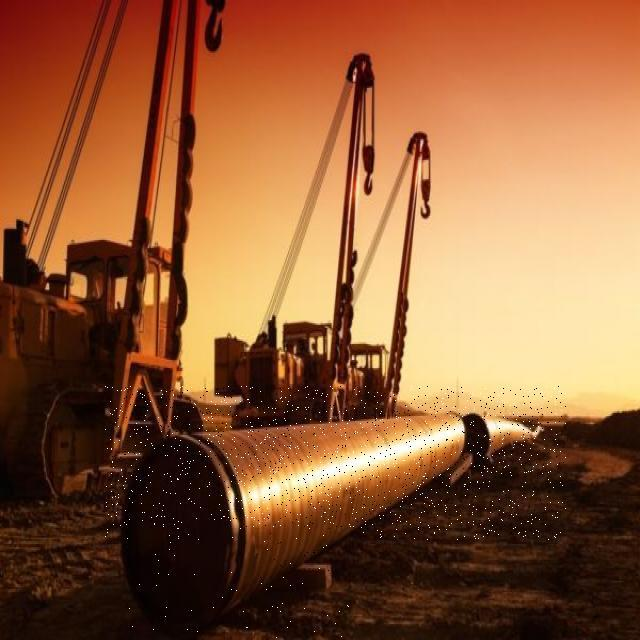gas: (122, 415, 540, 627)
